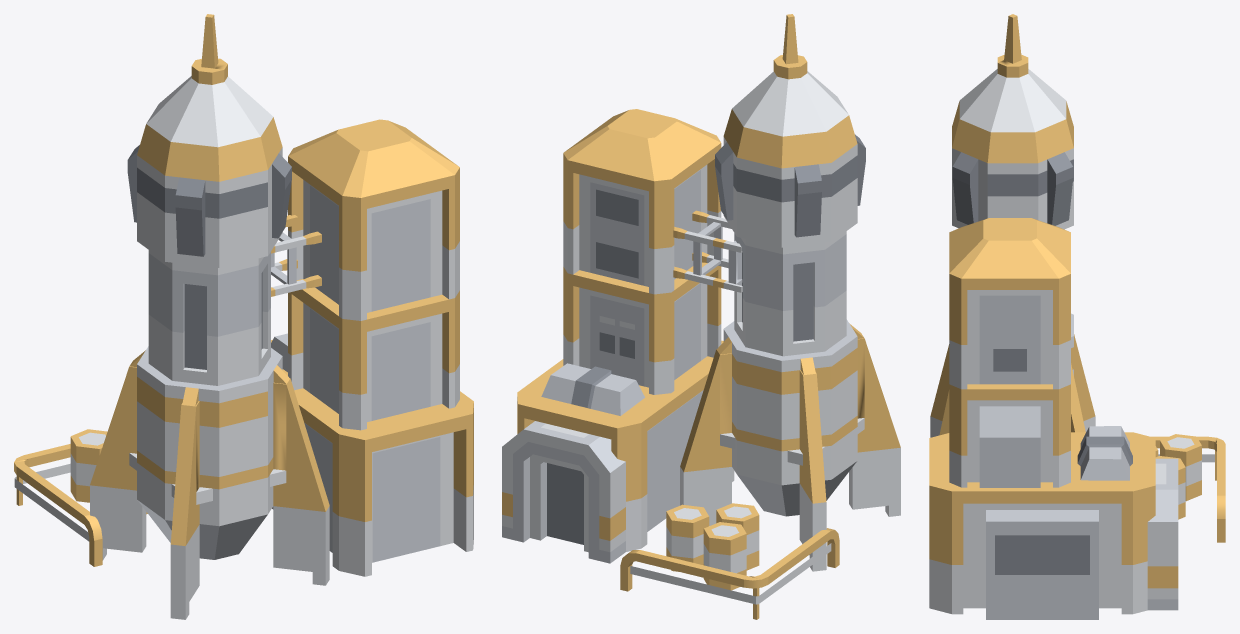
Rendered from building_BASE.fbx.
3 renders of one model, left to right at view 1: azimuth 30°, elevation 25°; view 2: azimuth 150°, elevation 25°; view 3: azimuth 270°, elevation 25°, orthographic. The views are drawn at different scales.
Visible parts, largest first — view 1: build_BASE; view 2: build_BASE; view 3: build_BASE.
Part boxes in pixels (x1,y1,x2,y2): build_BASE: [14, 14, 473, 619]; build_BASE: [502, 14, 900, 619]; build_BASE: [929, 14, 1225, 619].
Bounding box in the file's own units: 1.95 × 3.15 × 1.7.
